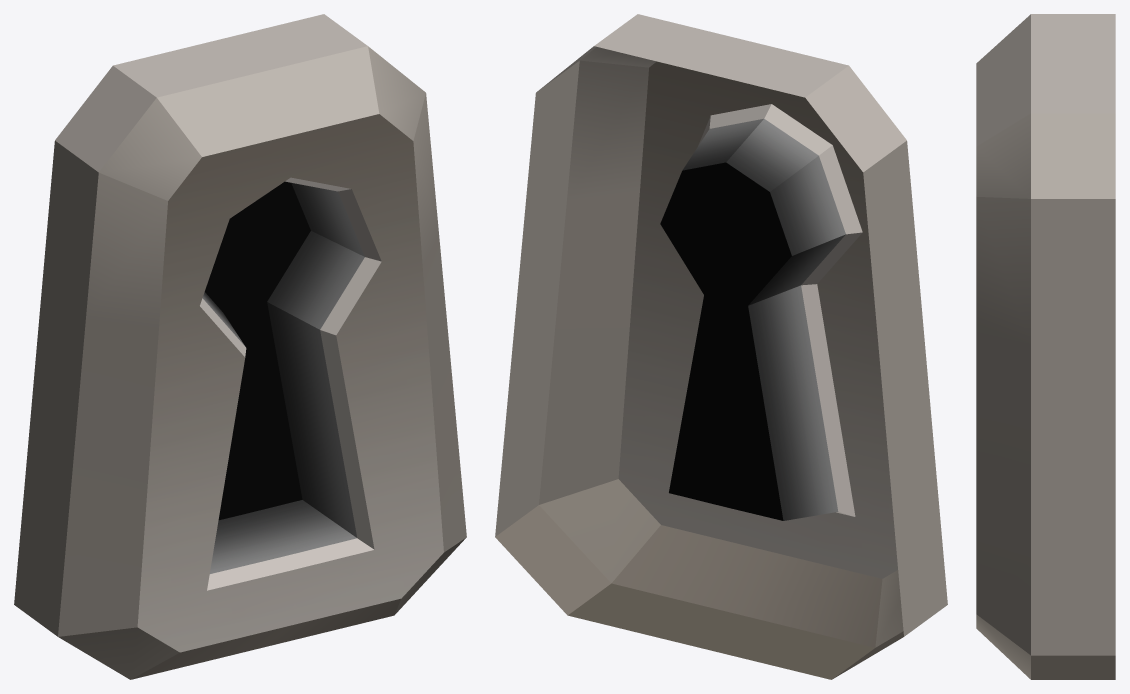
File: m_deco_lockSilver.FBX
The picture shows the model from 3 angles, left to right: view 1: azimuth 30°, elevation 25°; view 2: azimuth 150°, elevation 25°; view 3: azimuth 270°, elevation 25°; orthographic projection. The views are drawn at different scales.
Visible parts, largest first — view 1: m_deco_lockSilver; view 2: m_deco_lockSilver; view 3: m_deco_lockSilver.
Boxes of the visible parts, bbox=[...] form: m_deco_lockSilver: bbox=[14, 14, 466, 679]; m_deco_lockSilver: bbox=[495, 14, 947, 679]; m_deco_lockSilver: bbox=[976, 14, 1115, 679].
Size of the model in its own units: 0.5507 by 0.741 by 0.1684.
